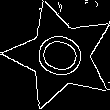O_E: (27, 26, 93, 85)
